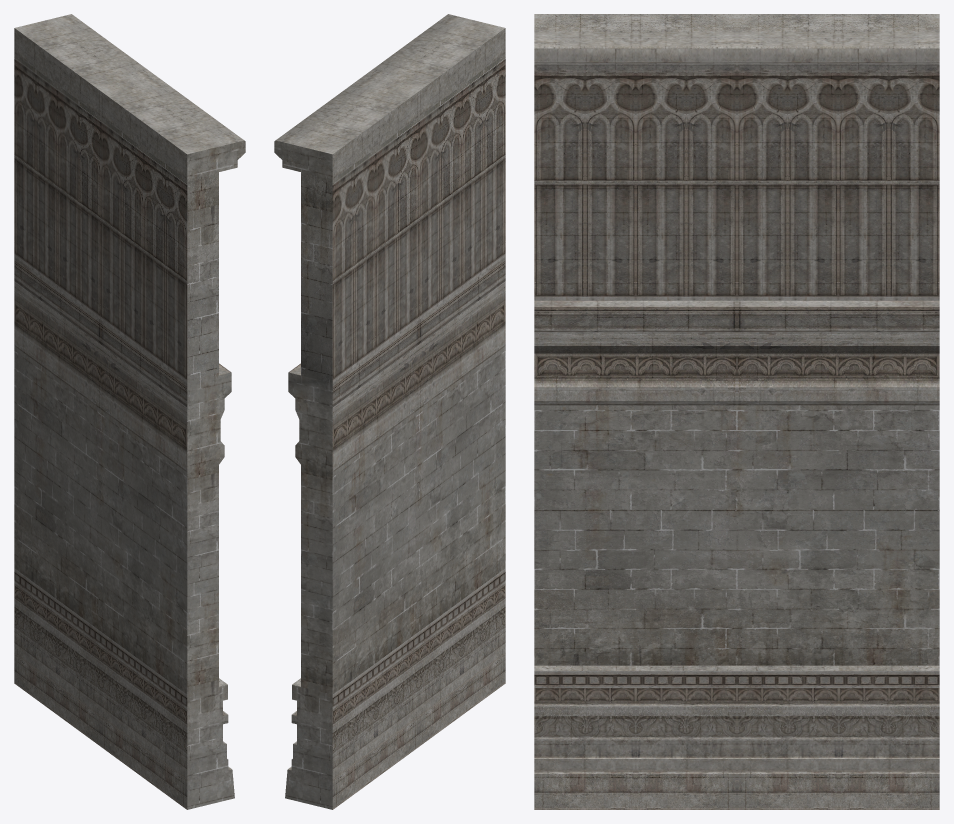
File: bg_lut_lucastle_churchunderwall01_sm_ysi.FBX
3 renders of one model, left to right at view 1: azimuth 30°, elevation 25°; view 2: azimuth 150°, elevation 25°; view 3: azimuth 270°, elevation 25°, orthographic. The views are drawn at different scales.
Parts seen in each view (by area): view 1: bg_lut_lucastle_churchunderwall01_sm_ysi; view 2: bg_lut_lucastle_churchunderwall01_sm_ysi; view 3: bg_lut_lucastle_churchunderwall01_sm_ysi.
Boxes of the visible parts, x1,y1,x2,y2 form: bg_lut_lucastle_churchunderwall01_sm_ysi: (14,14,245,809); bg_lut_lucastle_churchunderwall01_sm_ysi: (274,14,505,809); bg_lut_lucastle_churchunderwall01_sm_ysi: (534,14,939,809).
Bounding box in the file's own units: 99.88 × 1072 × 512.
